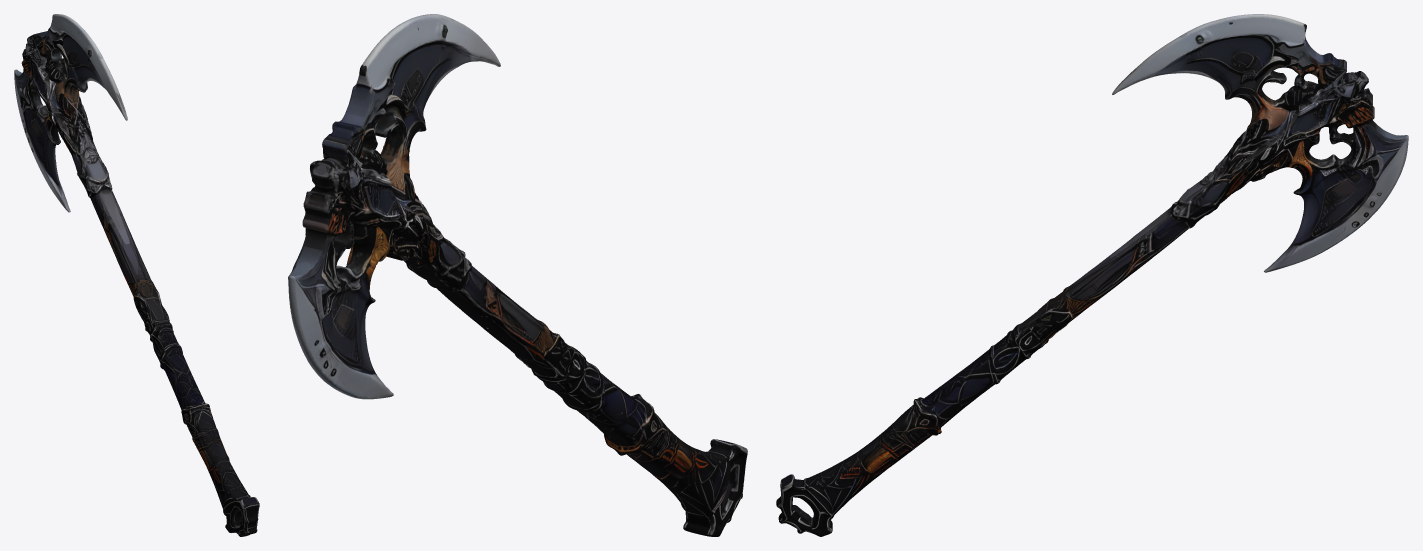
3 renders of one model, left to right at view 1: azimuth 30°, elevation 25°; view 2: azimuth 150°, elevation 25°; view 3: azimuth 270°, elevation 25°, orthographic. The views are drawn at different scales.
Parts seen in each view (by area): view 1: tripo_node_a178a507-509c-4e04-a14b-23c93ac7fd40; view 2: tripo_node_a178a507-509c-4e04-a14b-23c93ac7fd40; view 3: tripo_node_a178a507-509c-4e04-a14b-23c93ac7fd40.
Part boxes in pixels (box(x1,y1,x2,y2)): tripo_node_a178a507-509c-4e04-a14b-23c93ac7fd40: box(14, 14, 259, 536); tripo_node_a178a507-509c-4e04-a14b-23c93ac7fd40: box(288, 14, 747, 536); tripo_node_a178a507-509c-4e04-a14b-23c93ac7fd40: box(776, 14, 1408, 536).
Bounding box in the file's own units: 0.0823 × 0.905 × 1.
1 material, 1 textured.
